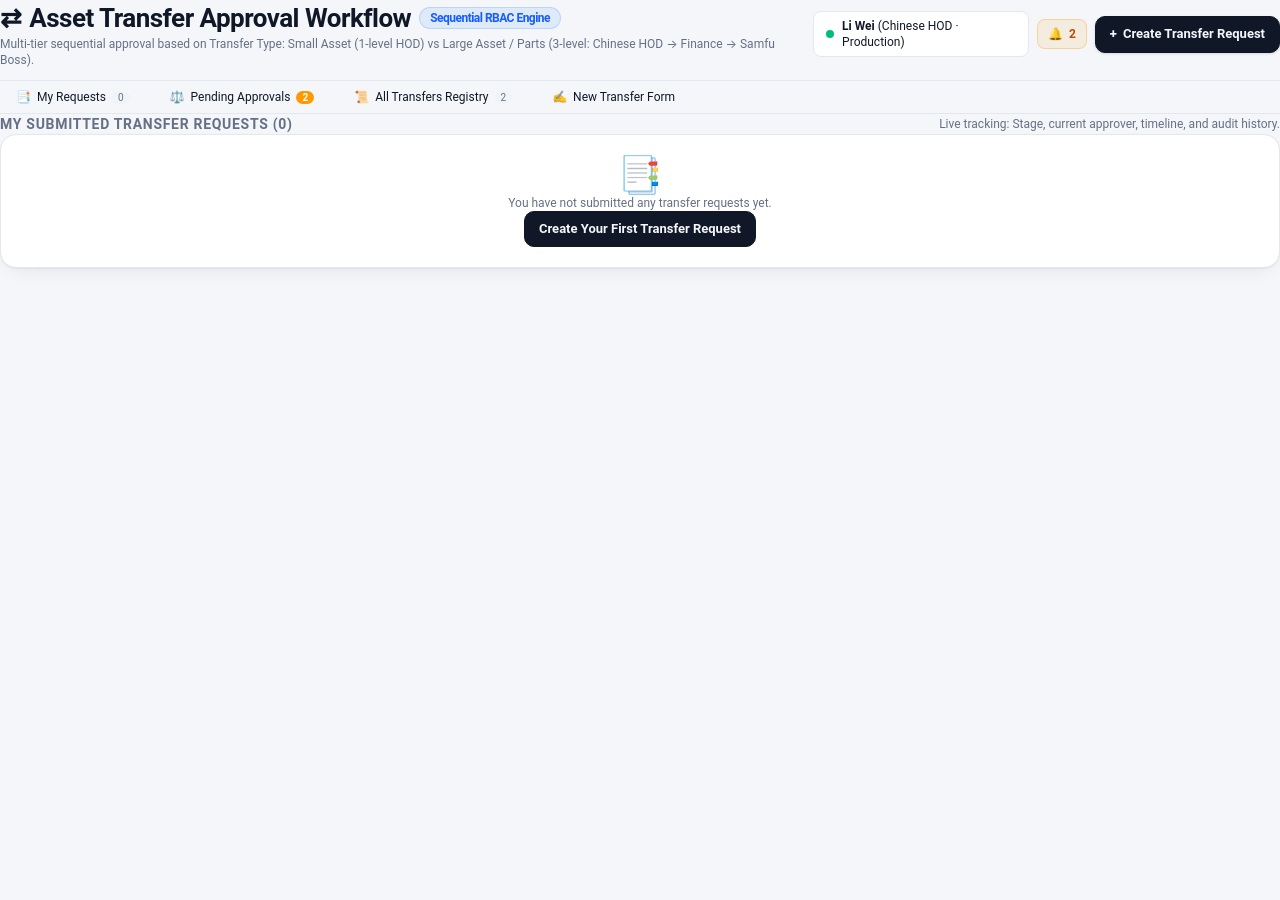
Test: Asset Transfer Approval Workflow (RBAC & Sequential Stage Invariants) › Requirement 3 & 4: RBAC and Sequential Progression from Chinese HOD -> Finance -> Samfu Boss
Later steps or results of the test are not shown.
Click the button "⚖️ Pending Approvals 2". click: [242, 97]
box: [154,81,330,113]
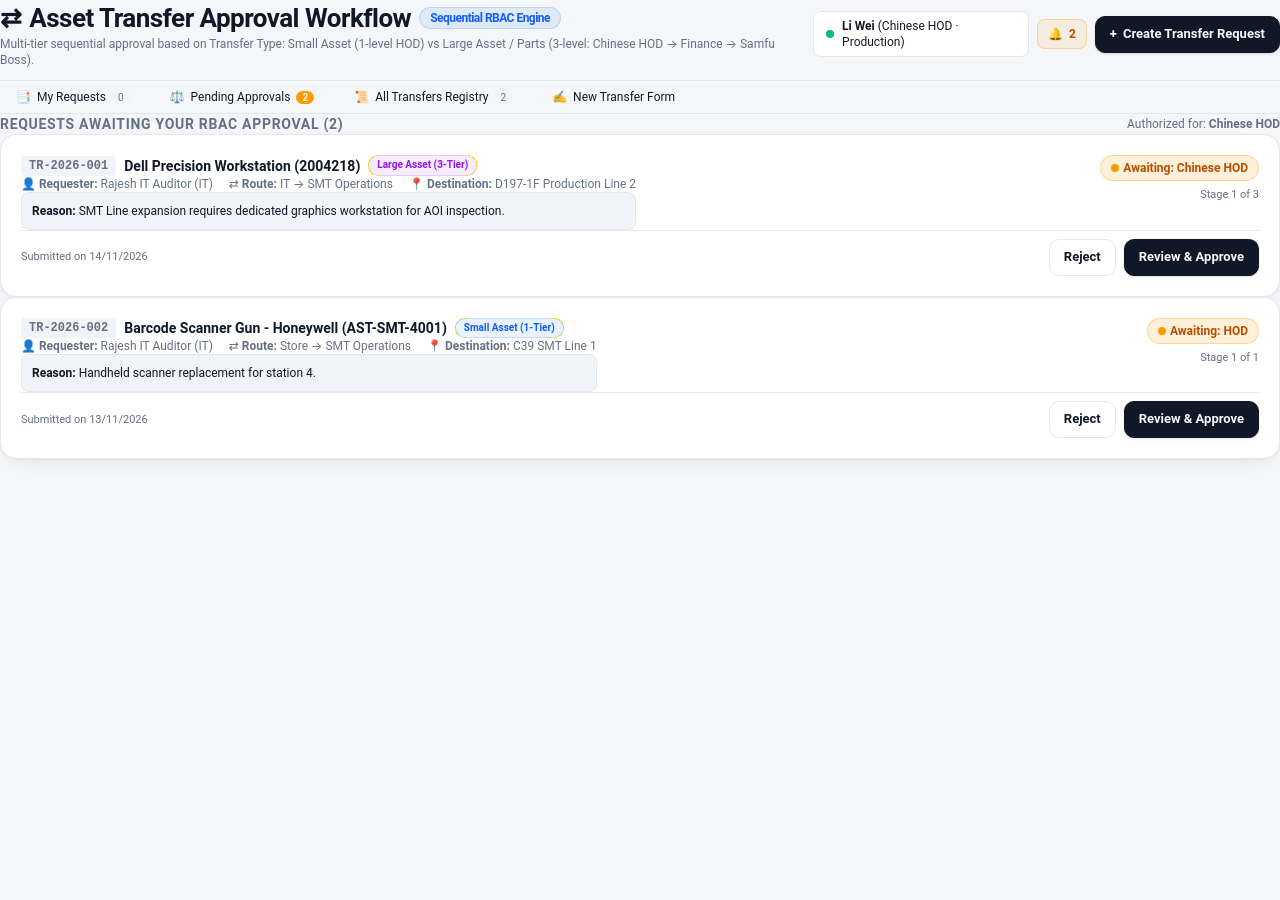
Check: the text "TR-2026-001" is shown, box [21,156,116,176]
Check: the text "Awaiting: Chinese HOD" is shown, box [1123,160,1248,176]
Click the button "Review & Approve" in the row of "14/11/2026". click: [1191, 257]
box: [1124,239,1259,276]
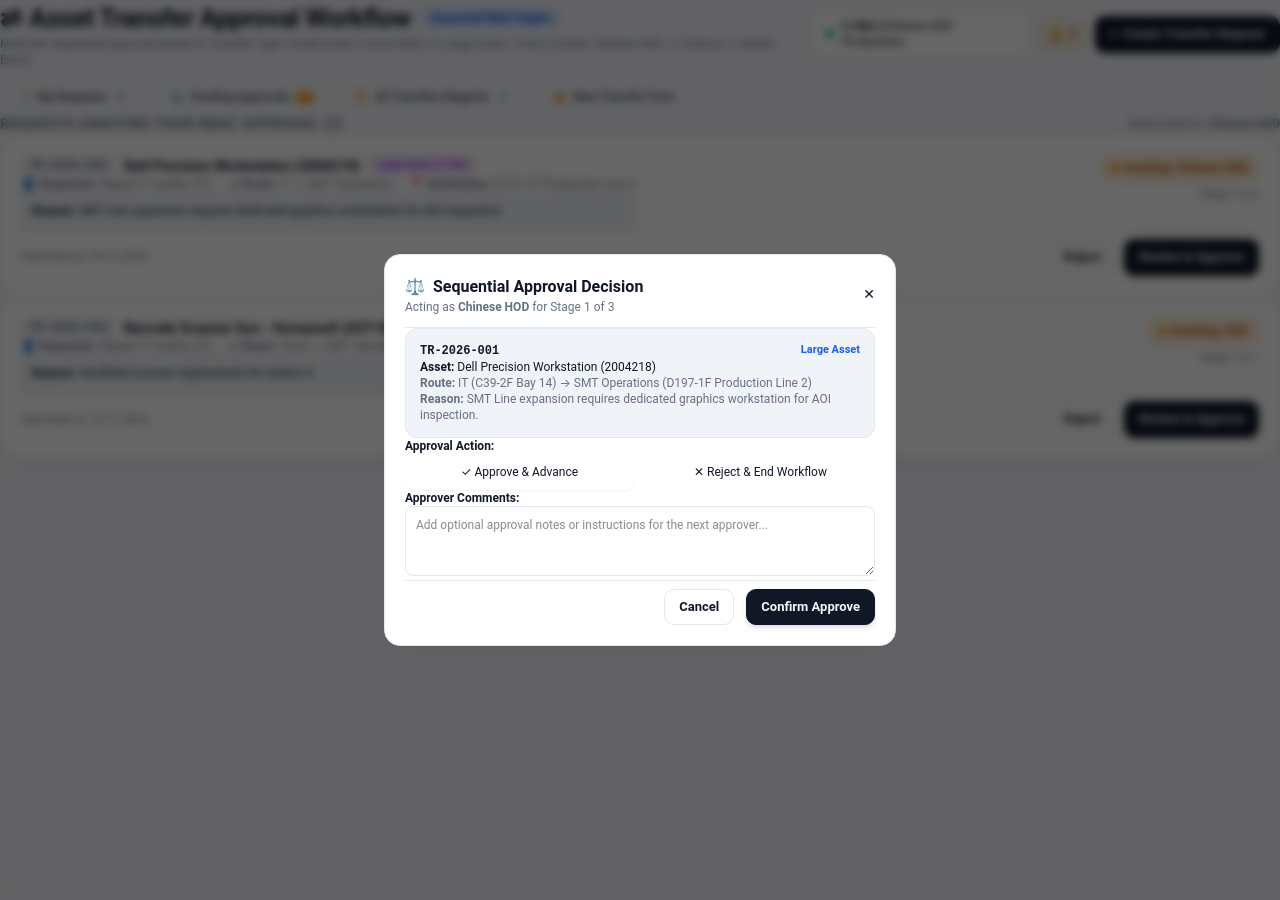
Click the button "Confirm Approve". click: [811, 607]
box: [746,589,875,625]
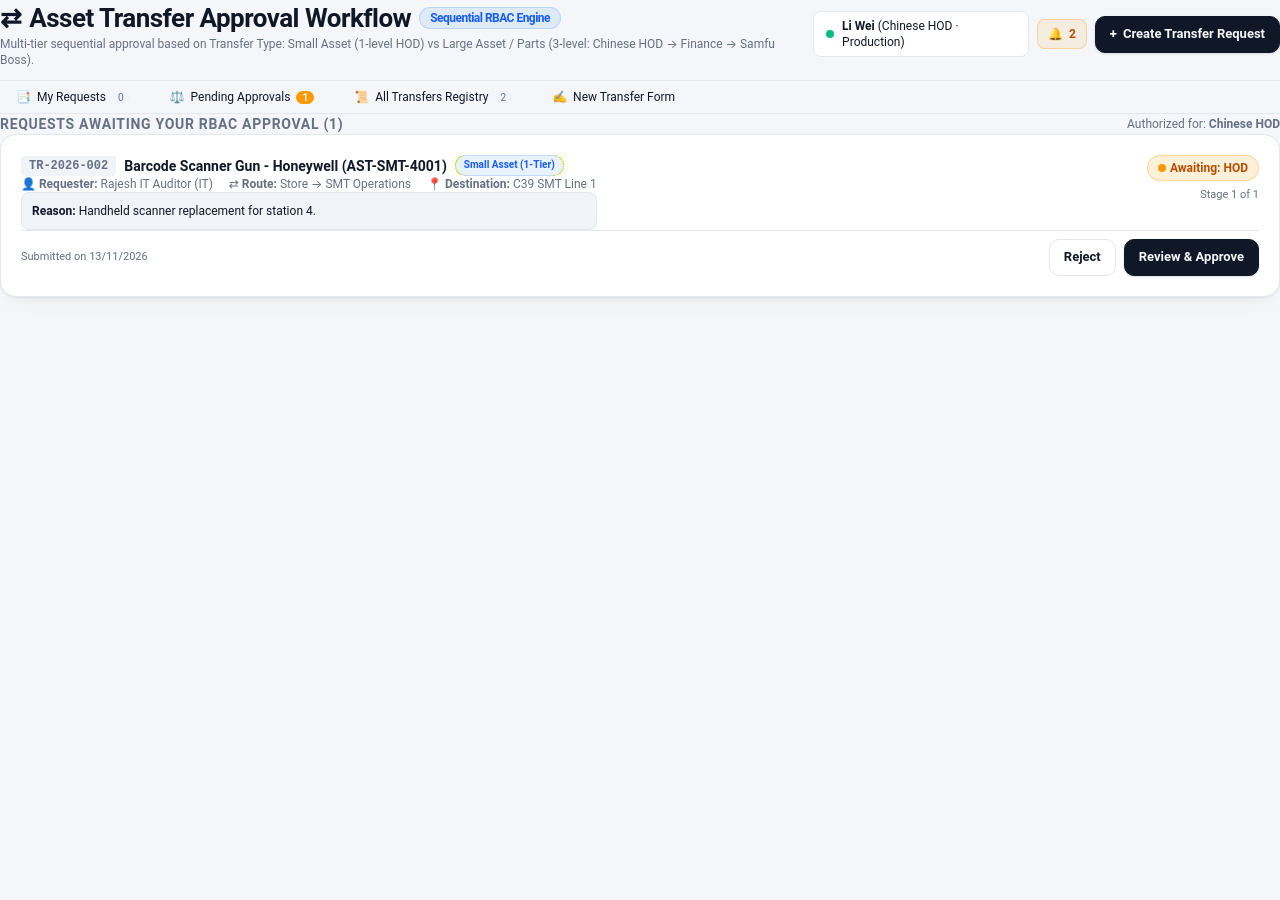
Check: the button "Confirm Approve" is gone
